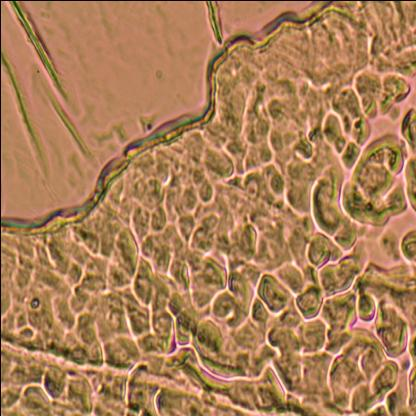Stage I: (0, 213, 415, 416), (232, 43, 416, 416)
